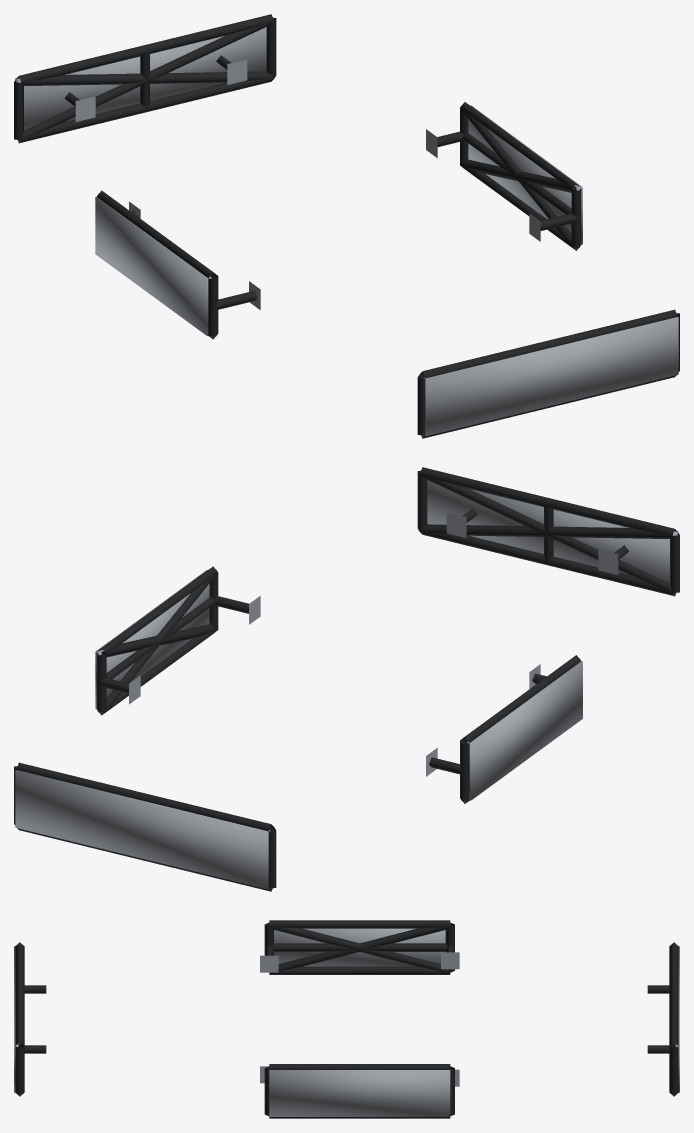
Rendered from ridgeway_toco_protecao.glb.
3 views of the same model, one above another, from view 1: azimuth 30°, elevation 25°; view 2: azimuth 150°, elevation 25°; view 3: azimuth 270°, elevation 25° (orthographic). The views are drawn at different scales.
Visible parts, largest first — view 1: Protection_front_Level3_Details, Protection_rear_Level1_Details, Protection_rear_Level3_Details, Protection_left_Level3_Details, Protection_rear_Level2_Details, Protection_right_Level1_Details, Protection_front_Level1_Details, Protection_right_Level2_Details, Protection_left_Level1_Details, Protection_right_Level3_Details; view 2: Protection_rear_Level3_Details, Protection_front_Level1_Details, Protection_front_Level3_Details, Protection_left_Level3_Details, Protection_front_Level2_Details, Protection_right_Level1_Details, Protection_rear_Level1_Details, Protection_right_Level2_Details, Protection_left_Level1_Details, Protection_right_Level3_Details; view 3: Protection_right_Level3_Details, Protection_left_Level1_Details, Protection_left_Level2_Details, Protection_left_Level3_Details, Protection_right_Level1_Details, Protection_rear_Level1_Details, Protection_front_Level1_Details.
Part boxes in pixels (x1,y1,x2,y2): Protection_front_Level3_Details: (423,317,678,436); Protection_rear_Level1_Details: (14,14,276,143); Protection_rear_Level3_Details: (15,27,266,130); Protection_left_Level3_Details: (95,196,211,335); Protection_rear_Level2_Details: (16,21,273,142); Protection_right_Level1_Details: (426,102,581,250); Protection_front_Level1_Details: (417,309,679,438); Protection_right_Level2_Details: (460,109,580,249); Protection_left_Level1_Details: (97,190,260,339); Protection_right_Level3_Details: (468,105,582,244); Protection_rear_Level3_Details: (15,770,270,889); Protection_front_Level1_Details: (417,467,679,596); Protection_front_Level3_Details: (427,480,678,583); Protection_left_Level3_Details: (466,661,582,800); Protection_front_Level2_Details: (420,474,677,595); Protection_right_Level1_Details: (96,566,260,715); Protection_rear_Level1_Details: (14,762,276,891); Protection_right_Level2_Details: (97,573,217,714); Protection_left_Level1_Details: (426,655,580,803); Protection_right_Level3_Details: (95,570,209,709); Protection_right_Level3_Details: (269,1070,450,1116); Protection_left_Level1_Details: (260,920,459,974); Protection_left_Level2_Details: (268,923,450,972); Protection_left_Level3_Details: (274,928,445,966); Protection_right_Level1_Details: (260,1064,459,1118); Protection_rear_Level1_Details: (647,942,678,1096); Protection_front_Level1_Details: (15,942,46,1096).
Bounding box in the file's own units: 2.06 × 0.354 × 3.9.
Materials: 1 (1 with a texture image).
